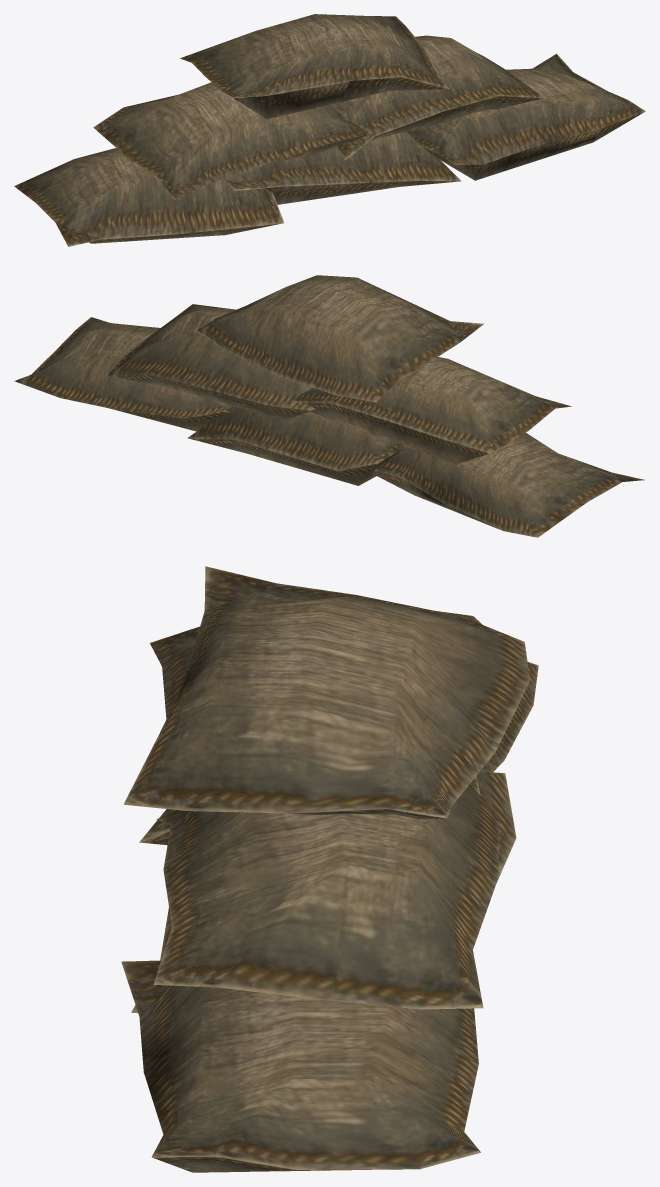
Rendered from sack_6stack.fbx.
3 views of the same model, one above another, from view 1: azimuth 30°, elevation 25°; view 2: azimuth 150°, elevation 25°; view 3: azimuth 270°, elevation 25° (orthographic). The views are drawn at different scales.
Visible parts, largest first — view 1: SackMesh5, SackMesh3, SackMesh2, SackMesh, SackMesh4, SackMesh1; view 2: SackMesh5, SackMesh3, SackMesh2, SackMesh4, SackMesh, SackMesh1; view 3: SackMesh5, SackMesh4, SackMesh, SackMesh3, SackMesh1, SackMesh2.
Part boxes in pixels (<box>): SackMesh5: <box>180,14,449,118</box>; SackMesh3: <box>93,82,372,199</box>; SackMesh2: <box>14,148,284,246</box>; SackMesh: <box>407,53,645,180</box>; SackMesh4: <box>329,35,544,160</box>; SackMesh1: <box>226,132,461,204</box>; SackMesh5: <box>195,275,483,402</box>; SackMesh3: <box>291,357,571,464</box>; SackMesh2: <box>372,433,644,537</box>; SackMesh4: <box>106,304,314,419</box>; SackMesh: <box>14,317,232,431</box>; SackMesh1: <box>187,406,407,485</box>; SackMesh5: <box>123,566,529,818</box>; SackMesh4: <box>153,784,500,1009</box>; SackMesh: <box>121,960,480,1172</box>; SackMesh3: <box>150,611,482,795</box>; SackMesh1: <box>131,771,516,1013</box>; SackMesh2: <box>139,662,538,844</box>.
Size of the model in its own units: 1518 by 427 by 489.
1 material, 1 textured.
